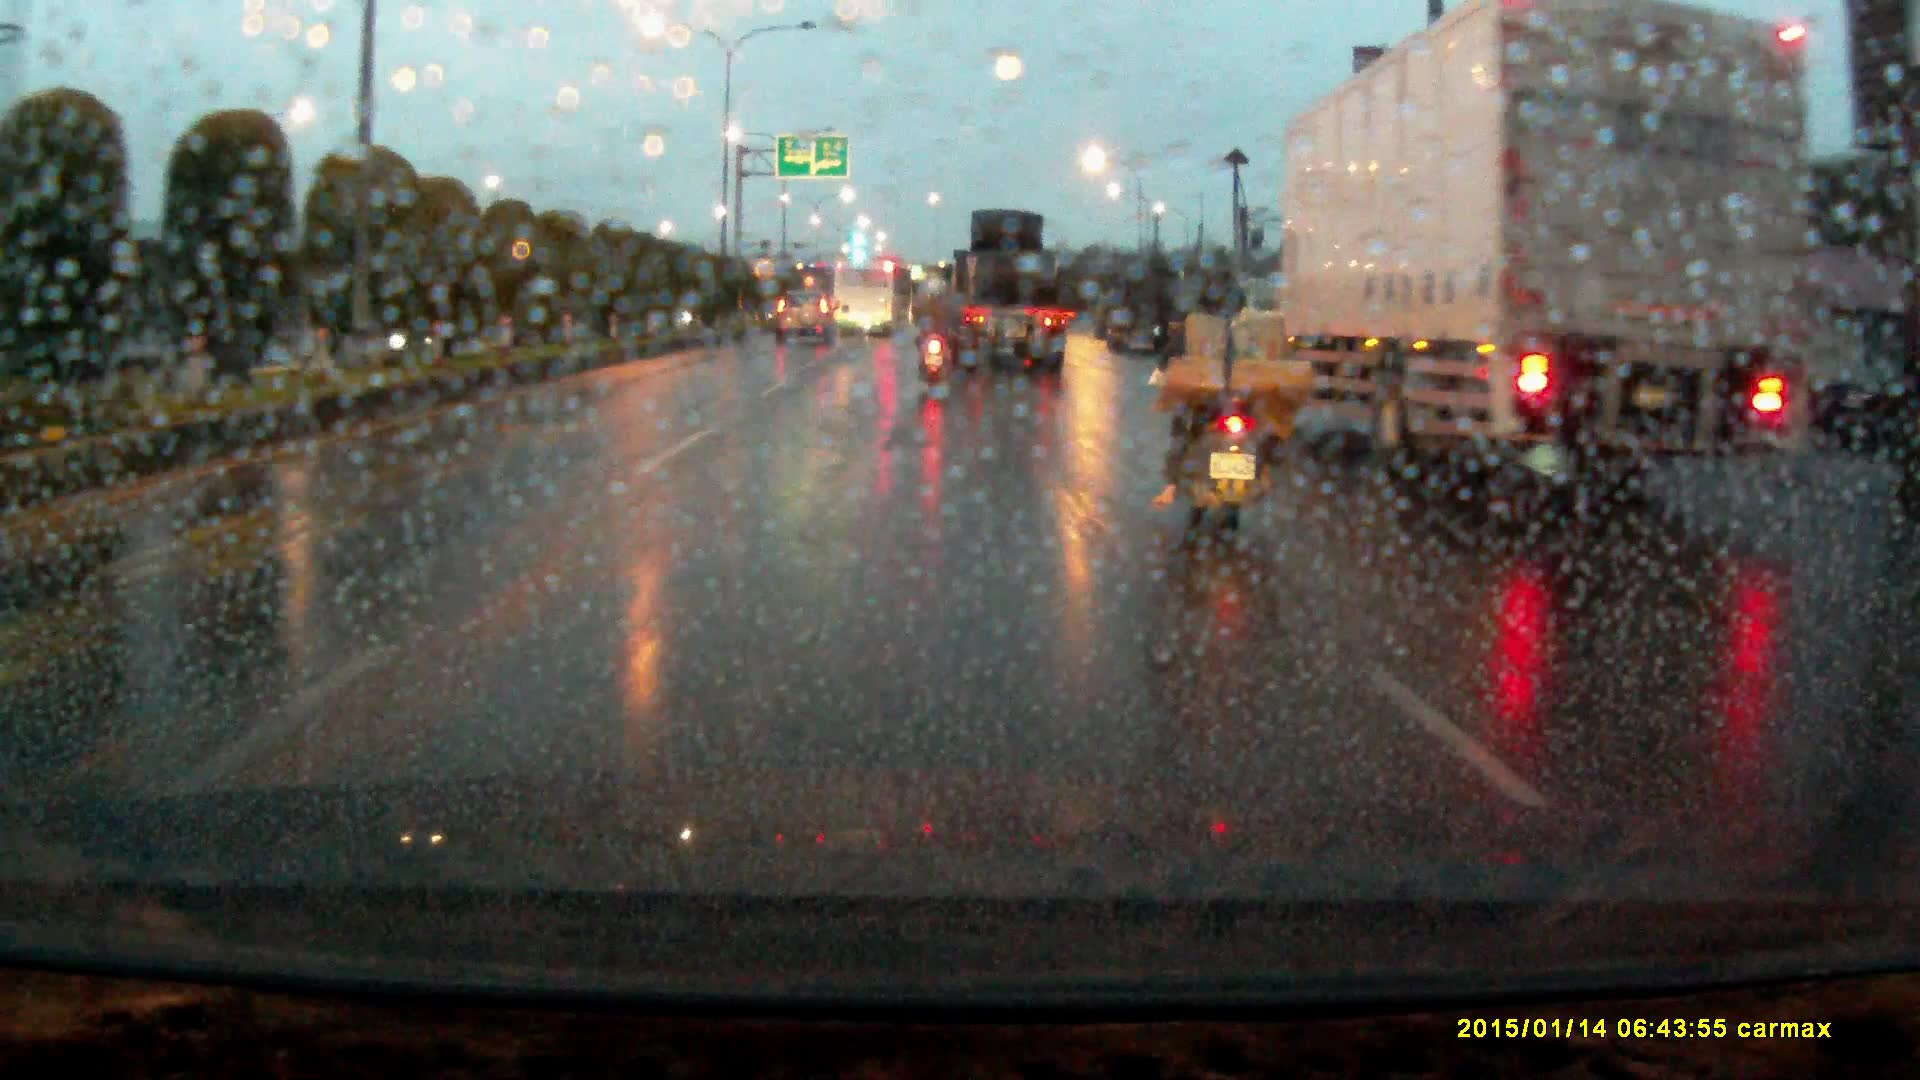rider: (1154, 253, 1324, 558), (913, 288, 955, 389)
vehicle: (1272, 7, 1832, 482), (933, 203, 1066, 370), (831, 263, 897, 338), (775, 281, 837, 343)
